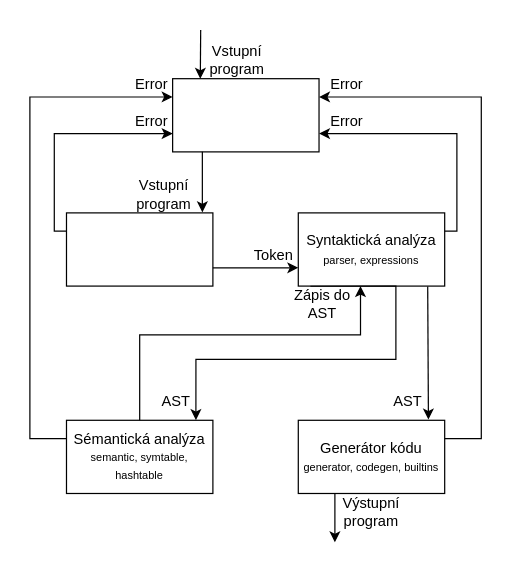
The diagram is 512 pixels wide and 573 high, and some of its shapes have lost their labels. Each missing label, with the box of its shape:
Lexikální analýza scanner, token: (65, 212, 213, 286)
main: (171, 77, 319, 152)
